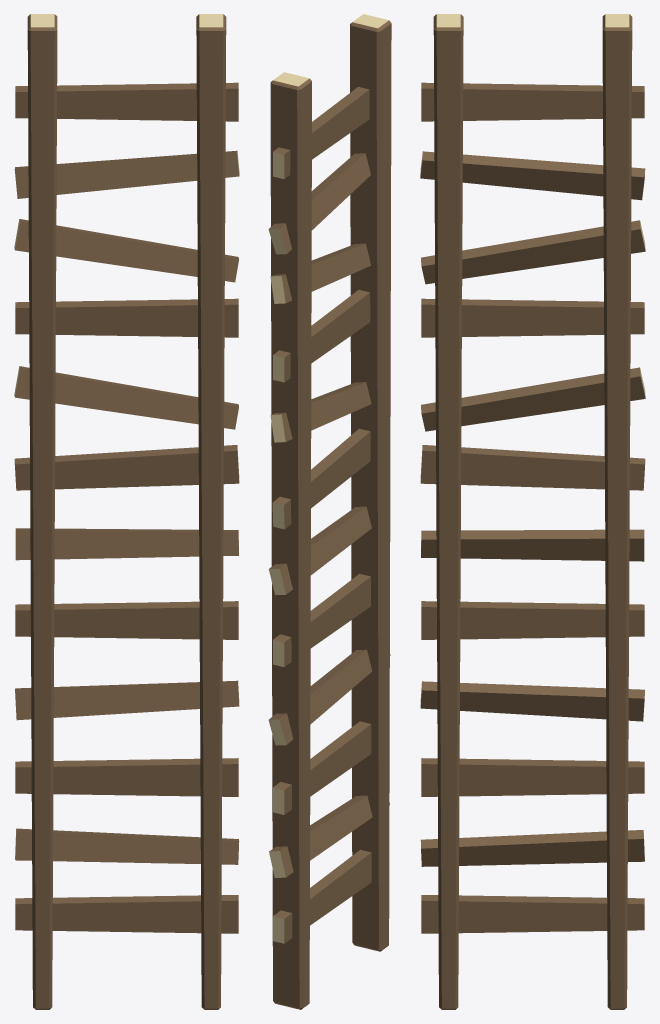
The model's file is SM_Ladder.fbx.
3 renders of one model, left to right at view 1: azimuth 90°, elevation 25°; view 2: azimuth 150°, elevation 25°; view 3: azimuth 270°, elevation 25°, orthographic. The views are drawn at different scales.
Parts seen in each view (by area): view 1: SM_Ladder_LOD0; view 2: SM_Ladder_LOD0; view 3: SM_Ladder_LOD0.
Boxes of the visible parts, <box> form: SM_Ladder_LOD0: <box>14,14,239,1009</box>; SM_Ladder_LOD0: <box>268,14,391,1009</box>; SM_Ladder_LOD0: <box>420,14,645,1009</box>.
Bounding box in the file's own units: 20 × 121 × 583.
1 material, 1 textured.
